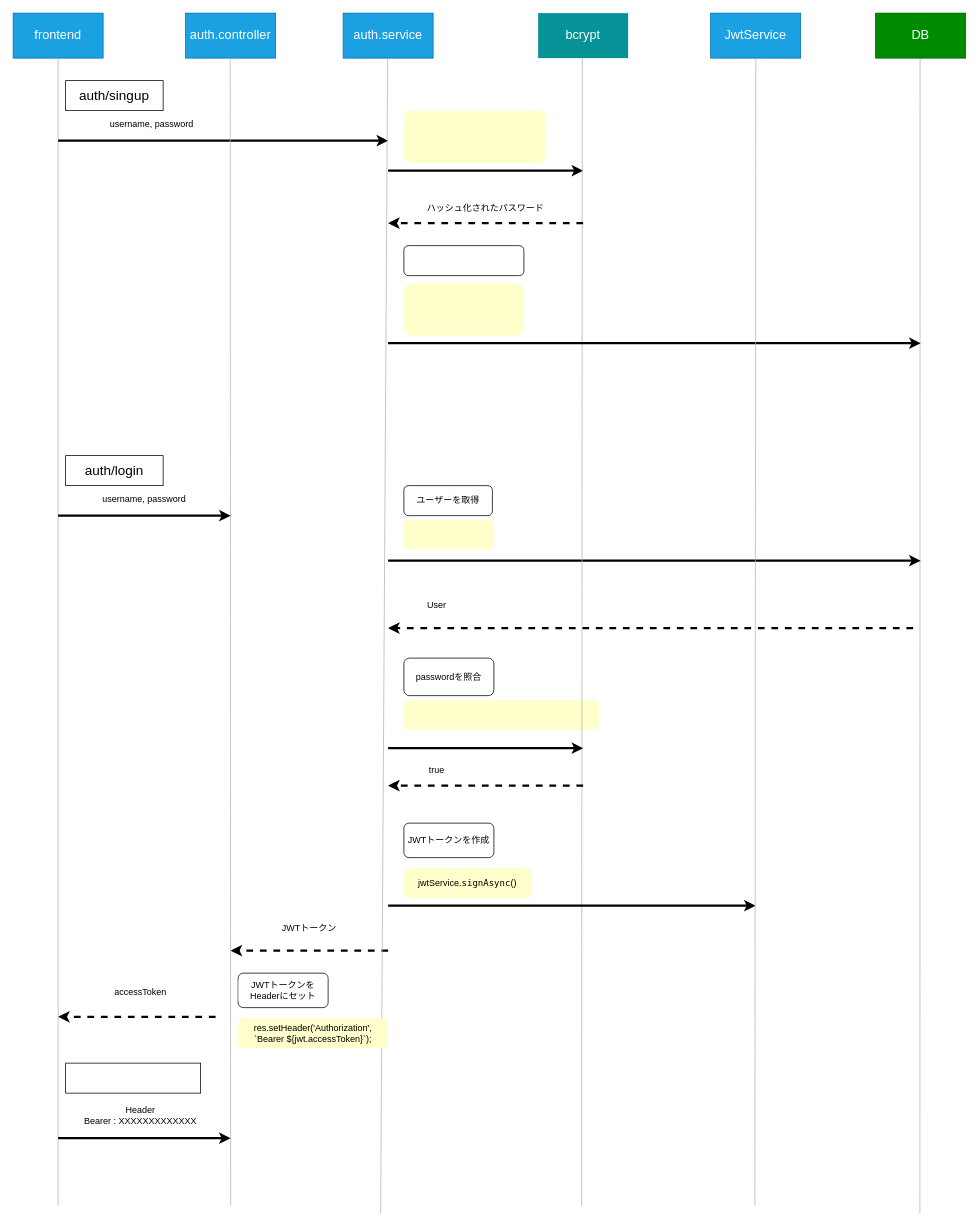
Some shapes in this 979 by 1227 pixel diagram are drawn without their labels. The box of each missing label's shape, as (x1, y1, x2, y2) in pixels:
bcrypt.hash( ハッシュ化したいpassword, ストレッチング回数): (404, 110, 546, 163)
create({ username, hash化されたpassword }): (404, 283, 524, 335)
crypt.compar(passwprd,hashedPassword): (404, 700, 598, 730)
findUnique(): (404, 519, 494, 549)
その他のリクエスト: (65, 1062, 201, 1093)
ユーザーを作成: (403, 245, 524, 276)
